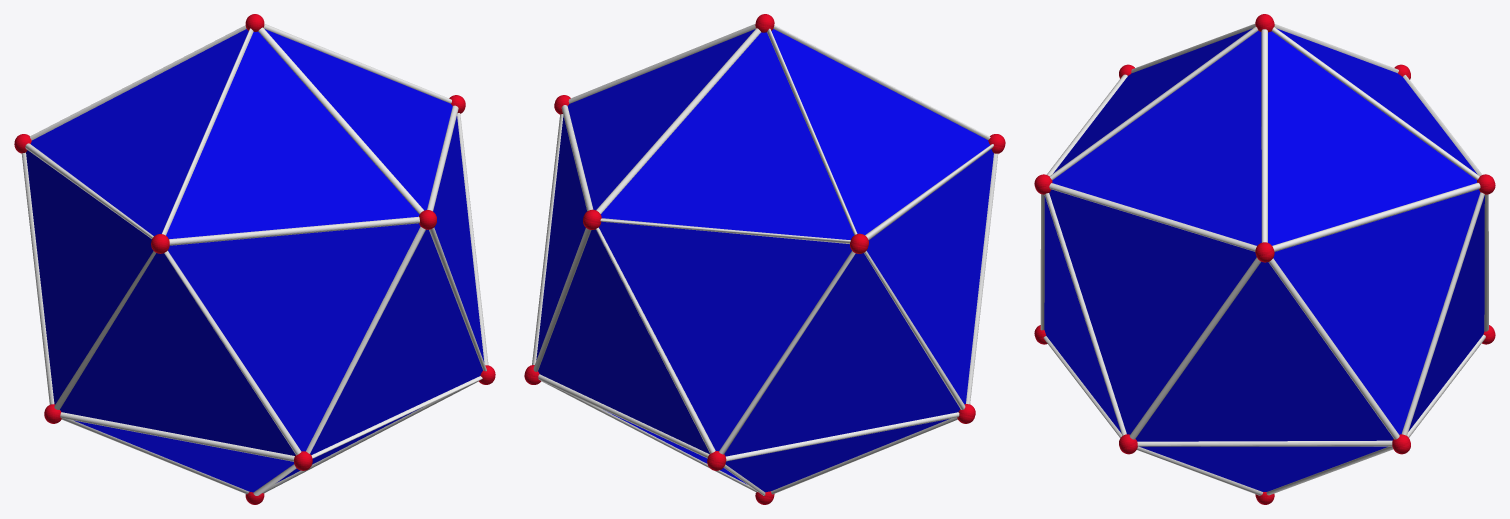
3 views of the same model, side by side, from view 1: azimuth 30°, elevation 25°; view 2: azimuth 150°, elevation 25°; view 3: azimuth 270°, elevation 25° (orthographic).
Parts seen in each view (by area): view 1: 16G, F, E; view 2: 16G, F, E, V; view 3: F, 16G, E, V.
Part boxes in pixels (left/top/right/bottom): 16G: left=14, top=14, right=495, bottom=501; F: left=228, top=29, right=484, bottom=482; E: left=21, top=24, right=488, bottom=495; 16G: left=525, top=14, right=1005, bottom=497; F: left=536, top=29, right=853, bottom=453; E: left=533, top=25, right=998, bottom=495; V: left=524, top=22, right=1004, bottom=504; F: left=1044, top=31, right=1484, bottom=491; 16G: left=1034, top=14, right=1494, bottom=498; E: left=1043, top=24, right=1488, bottom=494; V: left=1035, top=21, right=1495, bottom=504.
Bounding box in the file's own units: 186 × 208 × 178.
